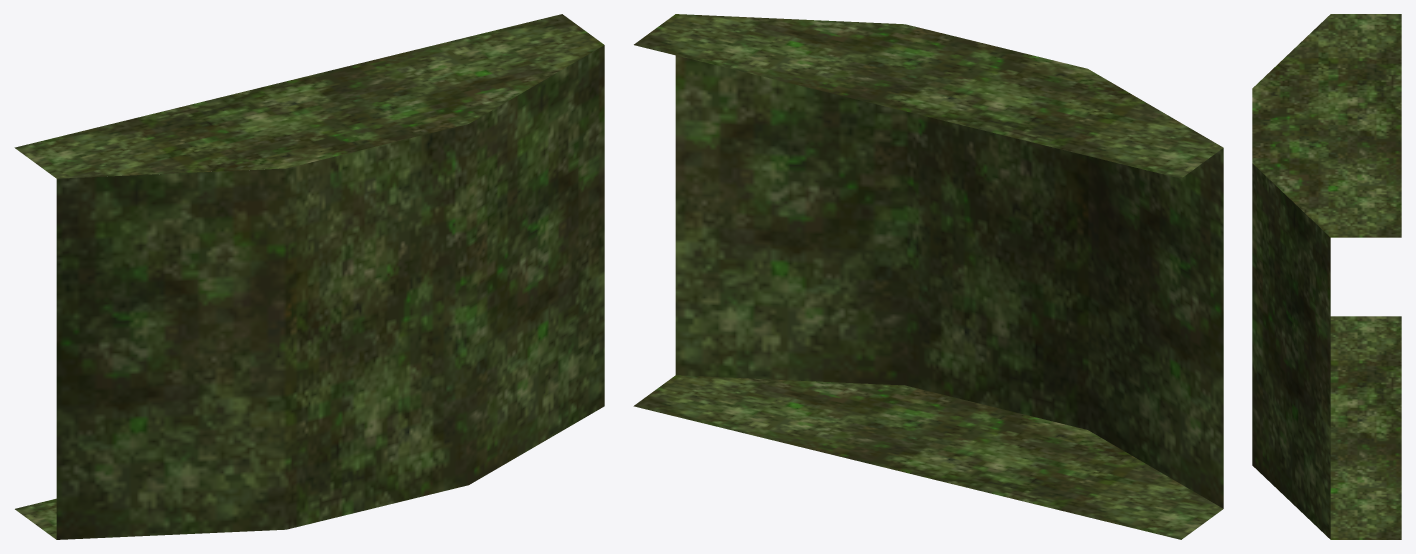
The model's file is OVERHILL_A_01_LINE409.fbx.
3 renders of one model, left to right at view 1: azimuth 30°, elevation 25°; view 2: azimuth 150°, elevation 25°; view 3: azimuth 270°, elevation 25°, orthographic. The views are drawn at different scales.
Parts seen in each view (by area): view 1: OVERHILL_A_01_LINE409; view 2: OVERHILL_A_01_LINE409; view 3: OVERHILL_A_01_LINE409.
Boxes of the visible parts, bbox=[...] form: OVERHILL_A_01_LINE409: bbox=[14, 14, 604, 539]; OVERHILL_A_01_LINE409: bbox=[633, 14, 1223, 539]; OVERHILL_A_01_LINE409: bbox=[1252, 14, 1401, 539].
Bounding box in the file's own units: 37552 × 23653 × 10598.
Materials: 1 (1 with a texture image).
